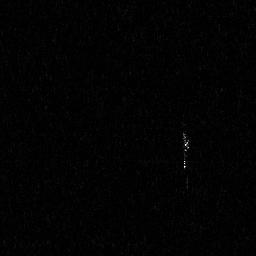ship: (181, 129, 193, 192)
